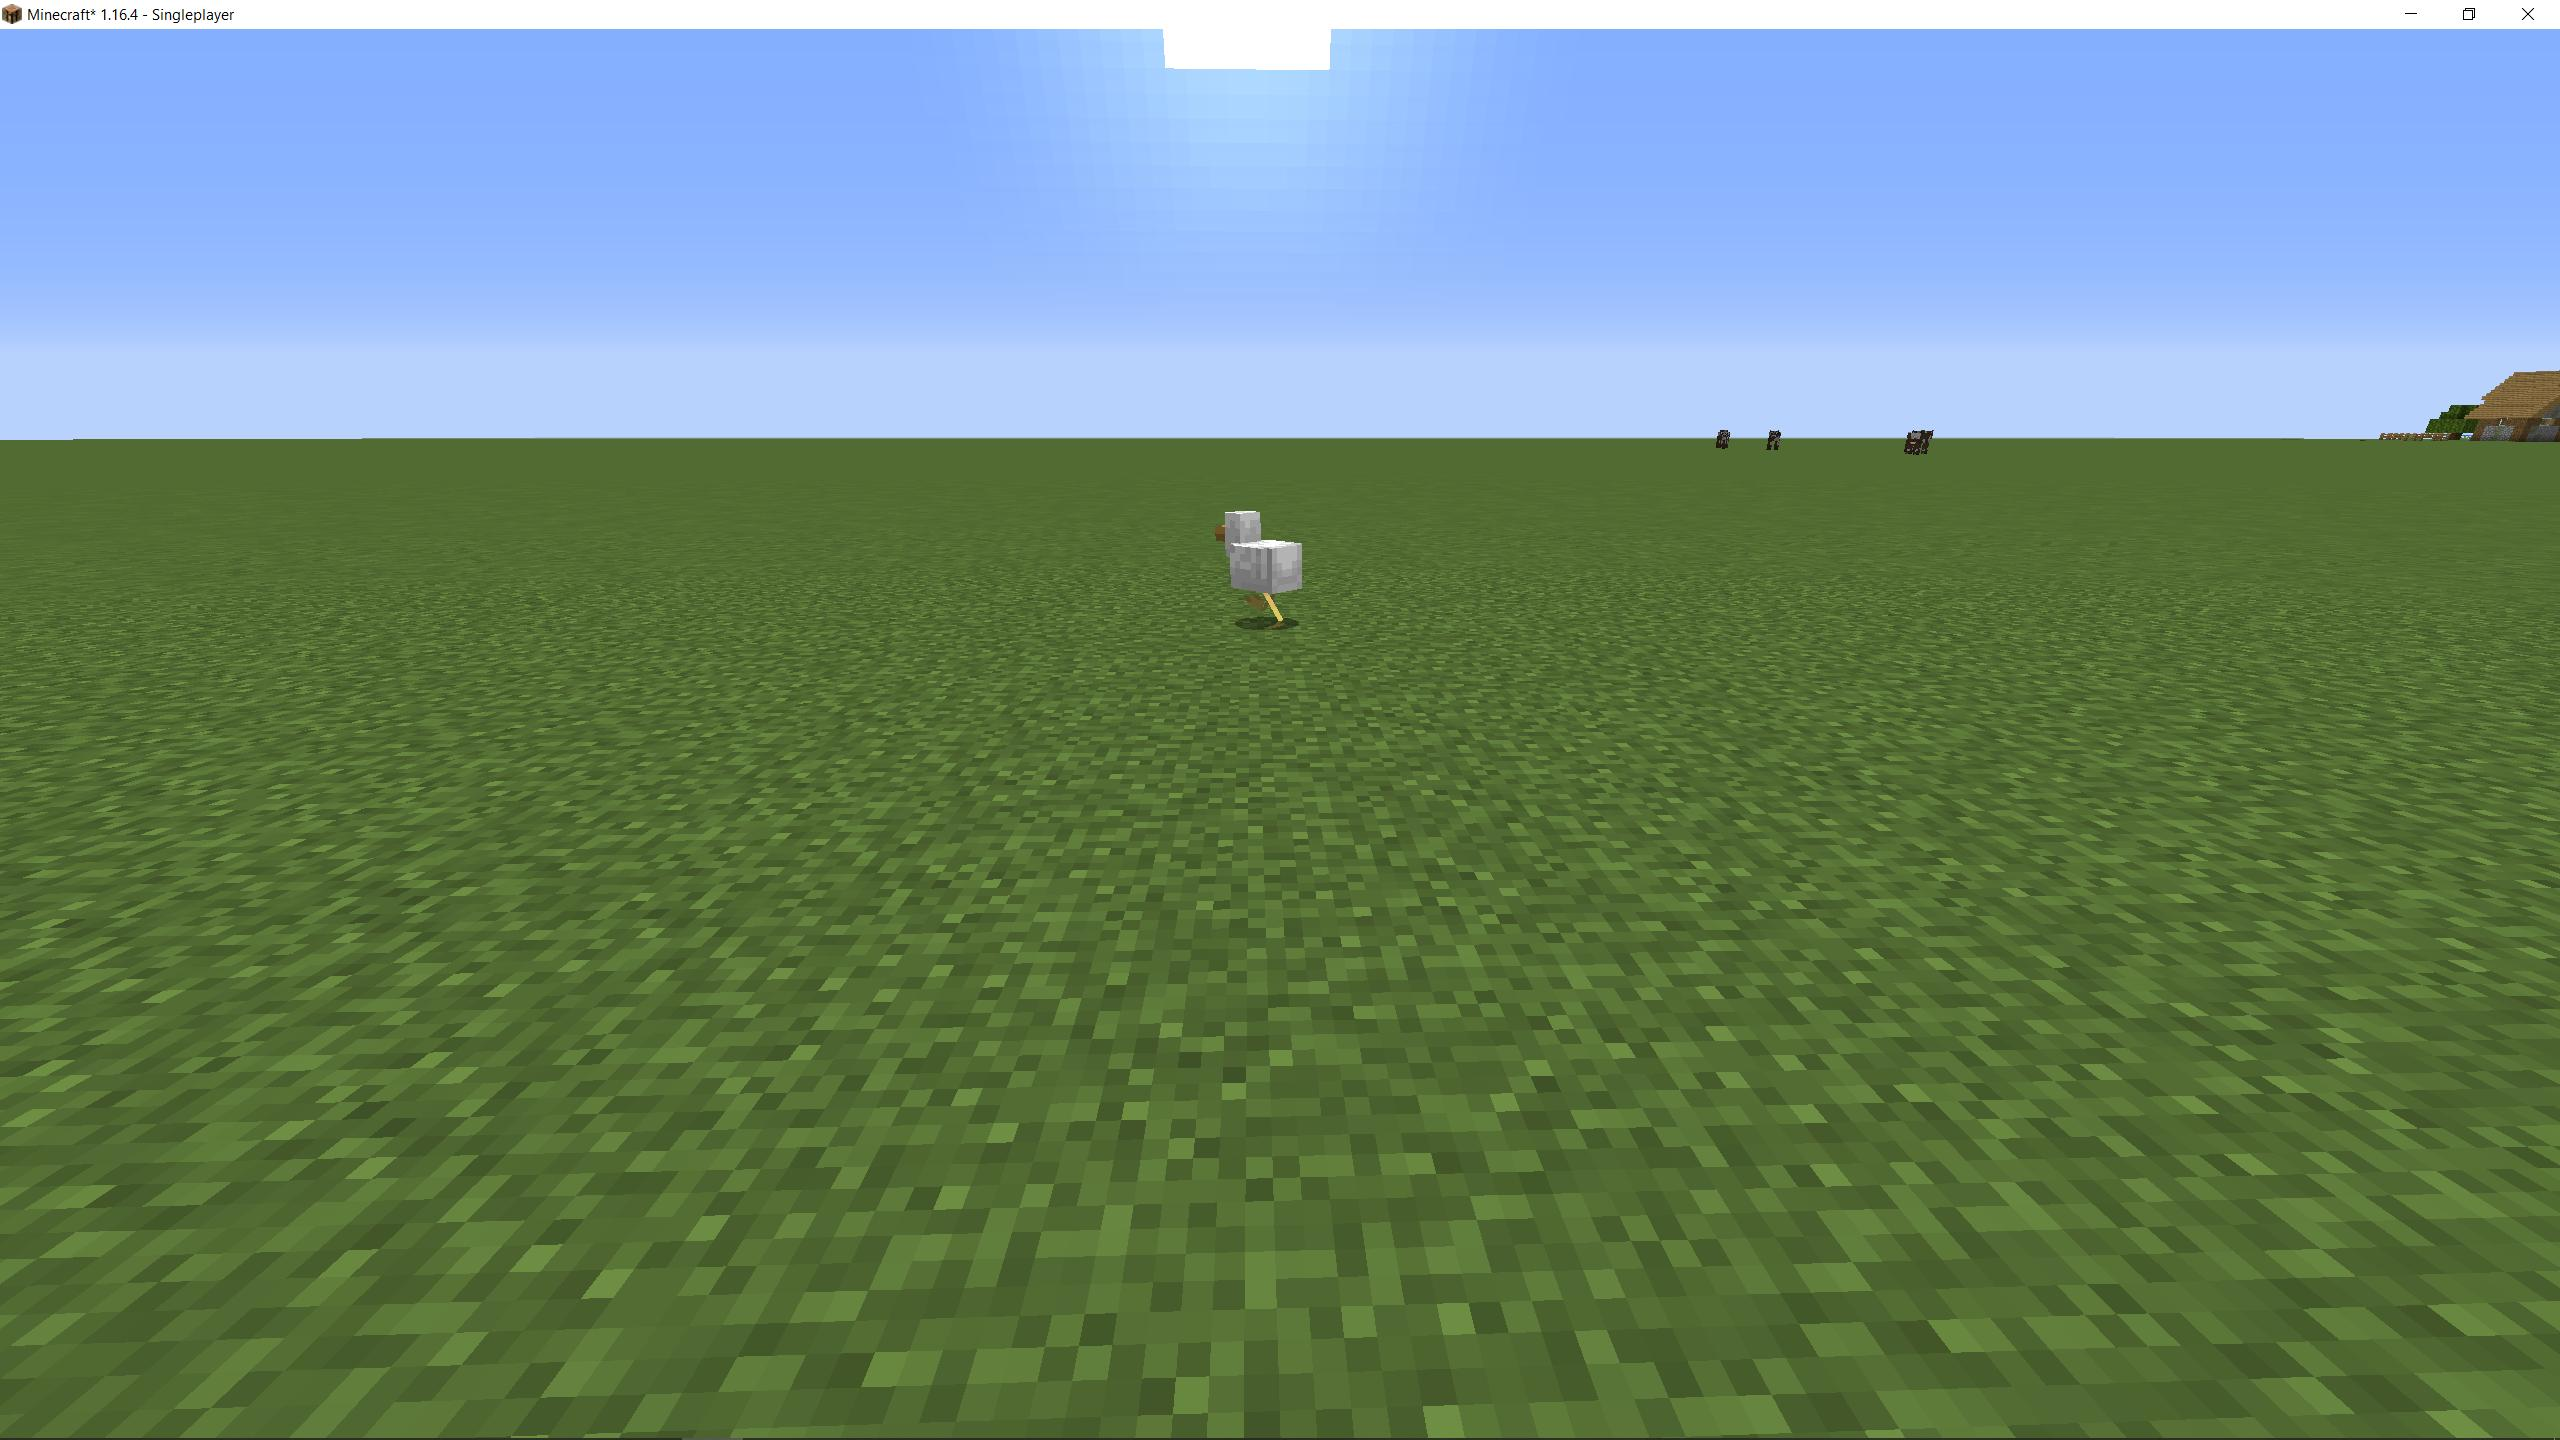chicken: (1211, 506, 1306, 631)
